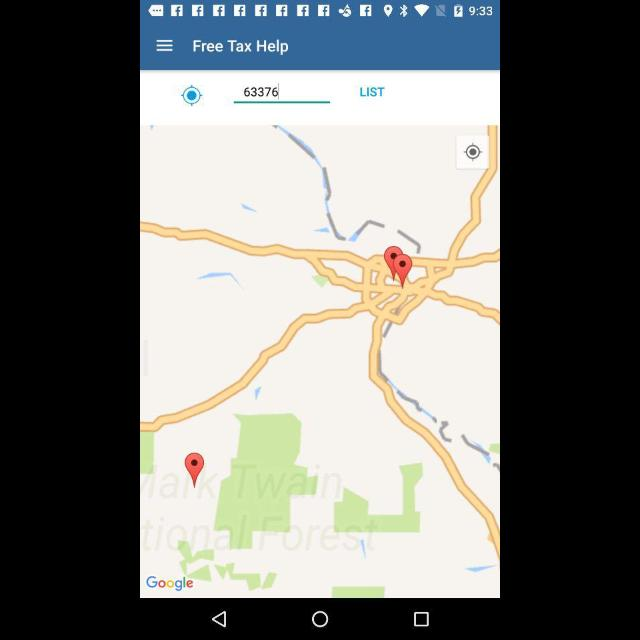icon: (180, 85, 203, 106), (462, 142, 482, 162), (310, 611, 330, 627), (154, 38, 173, 54), (212, 611, 228, 627), (414, 612, 430, 628)
map: (140, 126, 500, 596)
panel: (140, 598, 500, 640)
text: (192, 36, 290, 56), (242, 87, 280, 99)
textbutton: (358, 84, 386, 98)
toolbar: (142, 21, 498, 68)
uppertaskbar: (140, 1, 498, 22)
